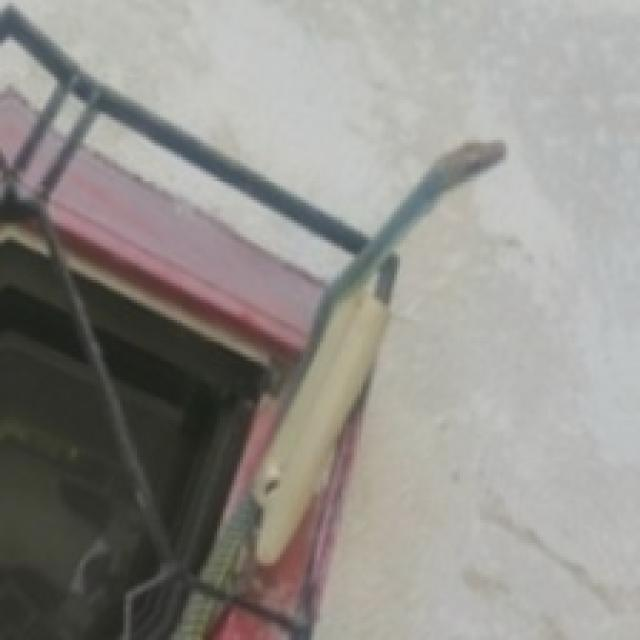paradise tree snake: (0, 6, 503, 637), (43, 109, 354, 537)
